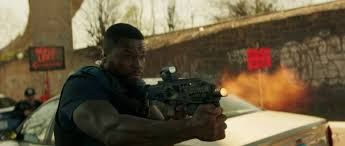gun: (137, 63, 235, 121)
